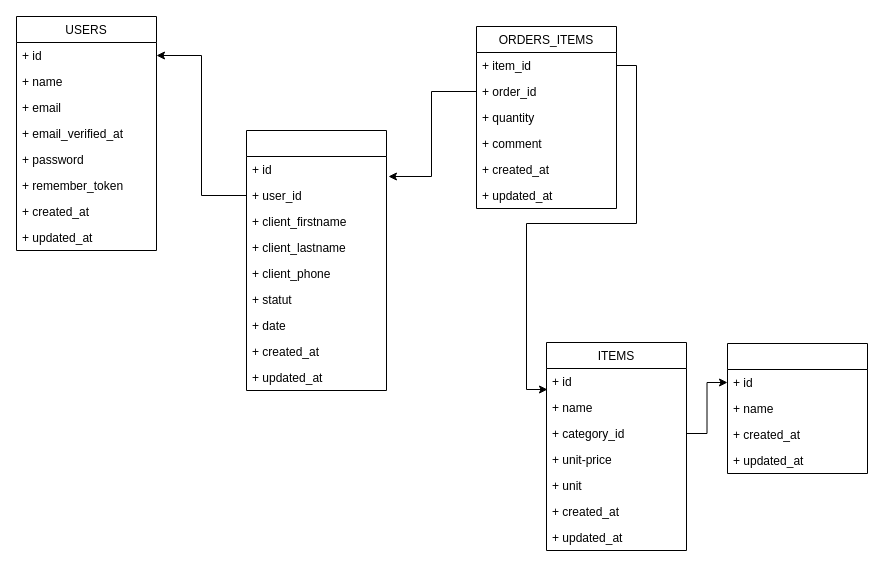
This 884x567 diagram has some shape labels left out. Each missing label, with the box of its shape:
CATEGORIES: (726, 342, 868, 474)
ORDERS: (246, 130, 386, 390)
